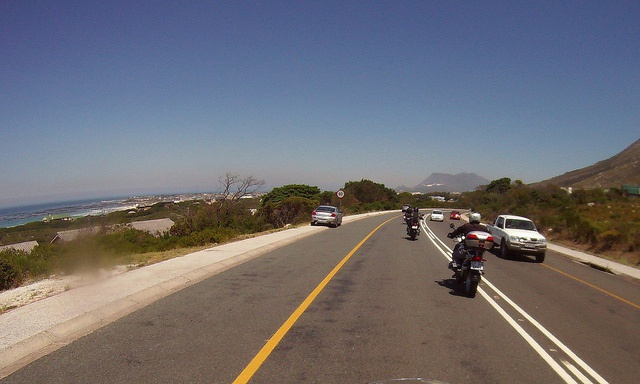non-vehicle: (455, 243, 484, 299), (405, 216, 421, 241)
